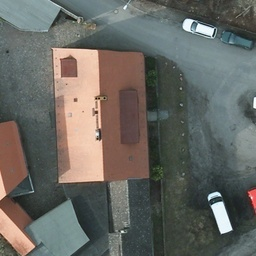car: (182, 17, 217, 39), (219, 28, 255, 49)
van: (205, 192, 231, 236)
